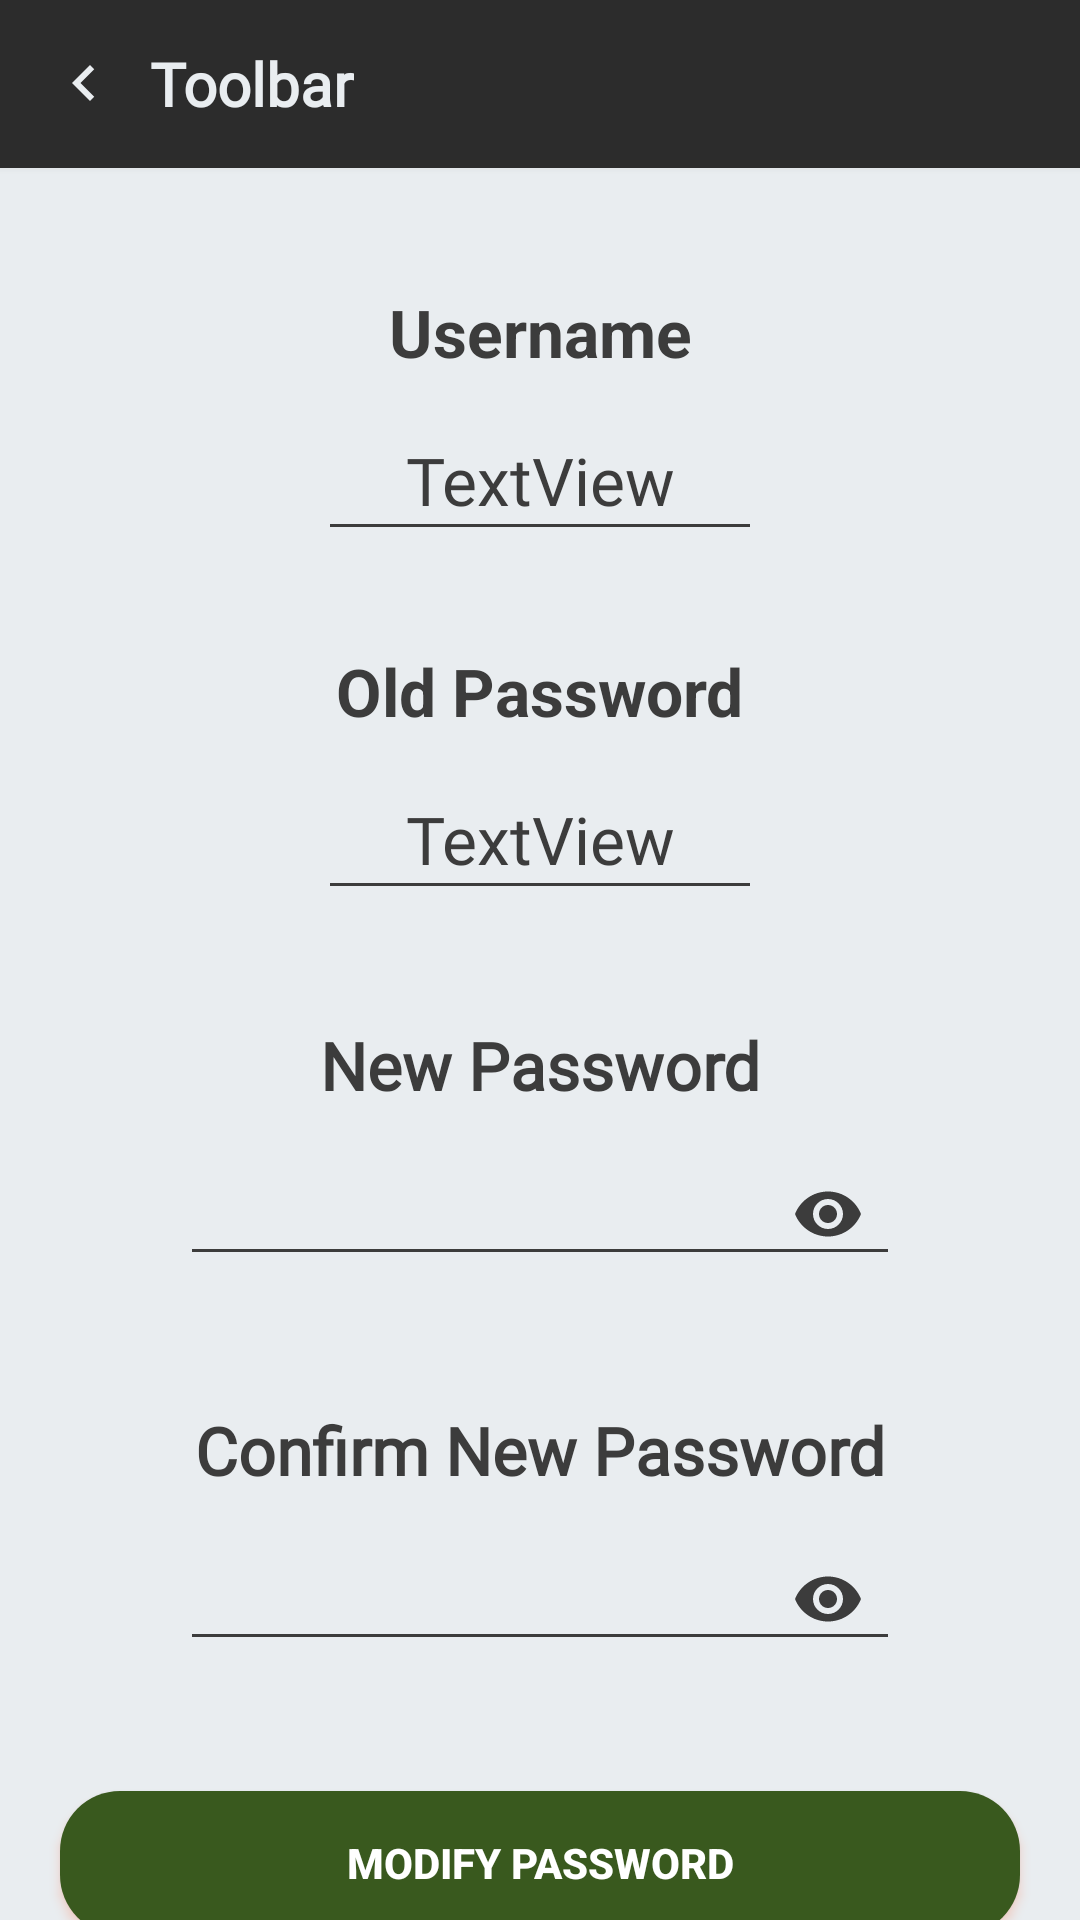

Icon bounding boxes for this 1080*1920 phone screenshot, format box(x1, y1, x2, y2):
chevron left: box(72, 65, 94, 101)
